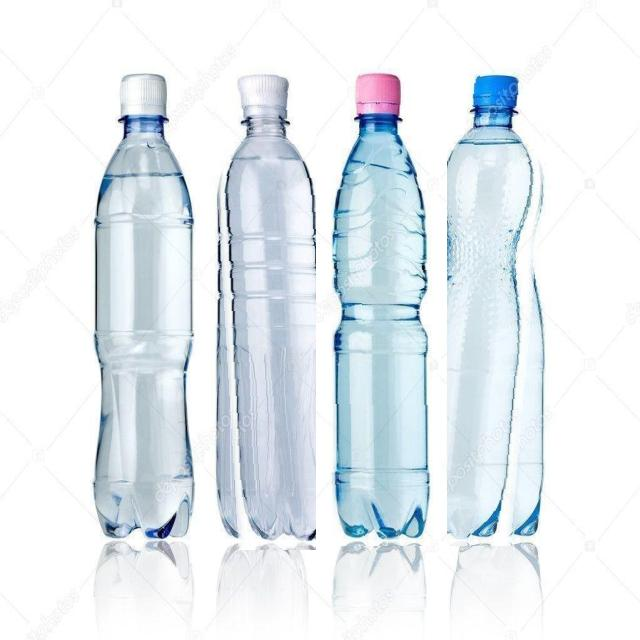plastic bottle: (86, 67, 201, 549), (326, 66, 433, 546), (210, 66, 316, 550), (447, 65, 553, 546)
